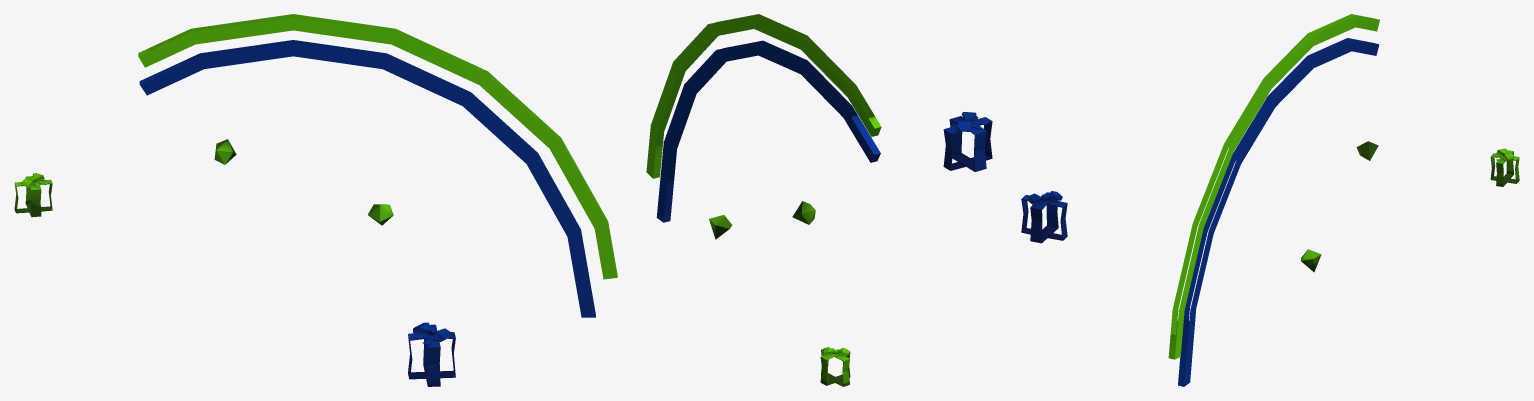
The model's file is Rainbow_02.FBX.
The picture shows the model from 3 angles, left to right: view 1: azimuth 30°, elevation 25°; view 2: azimuth 150°, elevation 25°; view 3: azimuth 270°, elevation 25°; orthographic projection. The views are drawn at different scales.
Visible parts, largest first — view 1: Rainbow_02; view 2: Rainbow_02; view 3: Rainbow_02.
Part boxes in pixels (x1,y1,x2,y2): Rainbow_02: [14, 14, 617, 386]; Rainbow_02: [646, 14, 992, 386]; Rainbow_02: [1021, 14, 1519, 386].
Bounding box in the file's own units: 13.85 × 9.74 × 17.11.
